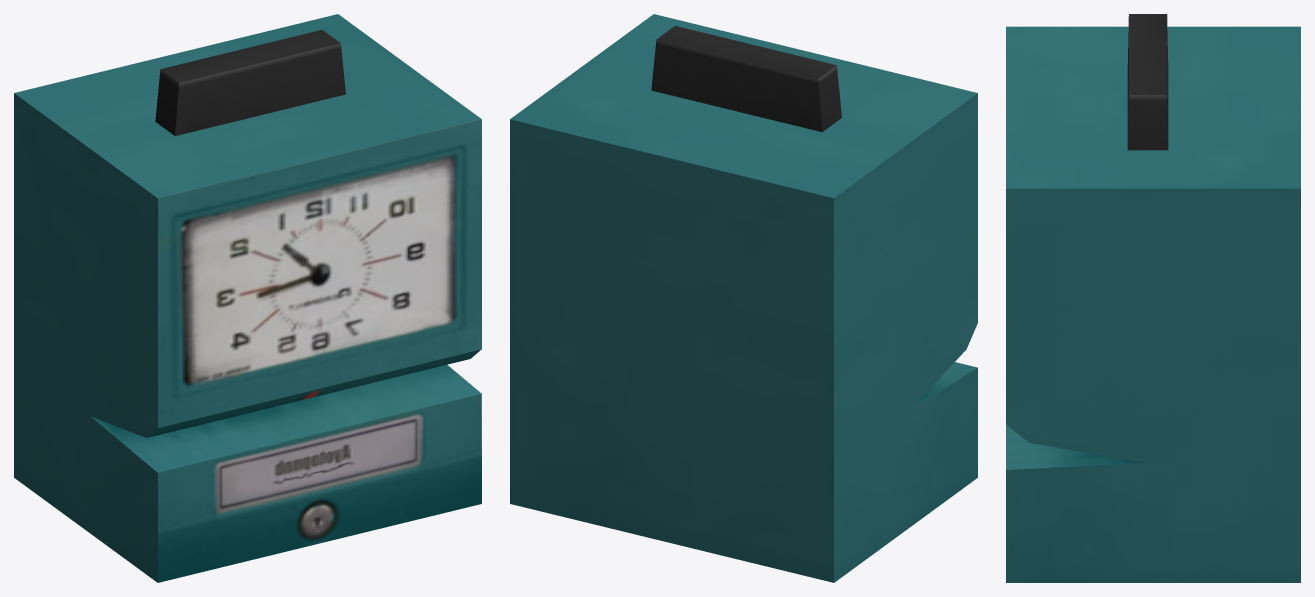
Rendered from gas_checker.fbx.
3 renders of one model, left to right at view 1: azimuth 30°, elevation 25°; view 2: azimuth 150°, elevation 25°; view 3: azimuth 270°, elevation 25°, orthographic. The views are drawn at different scales.
Visible parts, largest first — view 1: gas_checker; view 2: gas_checker; view 3: gas_checker.
Boxes of the visible parts, left/top/right/bottom form: gas_checker: left=14, top=14, right=481, bottom=582; gas_checker: left=510, top=14, right=977, bottom=582; gas_checker: left=1006, top=14, right=1300, bottom=582.
Bounding box in the file's own units: 0.4155 × 0.5347 × 0.3194.
Materials: 1 (1 with a texture image).
